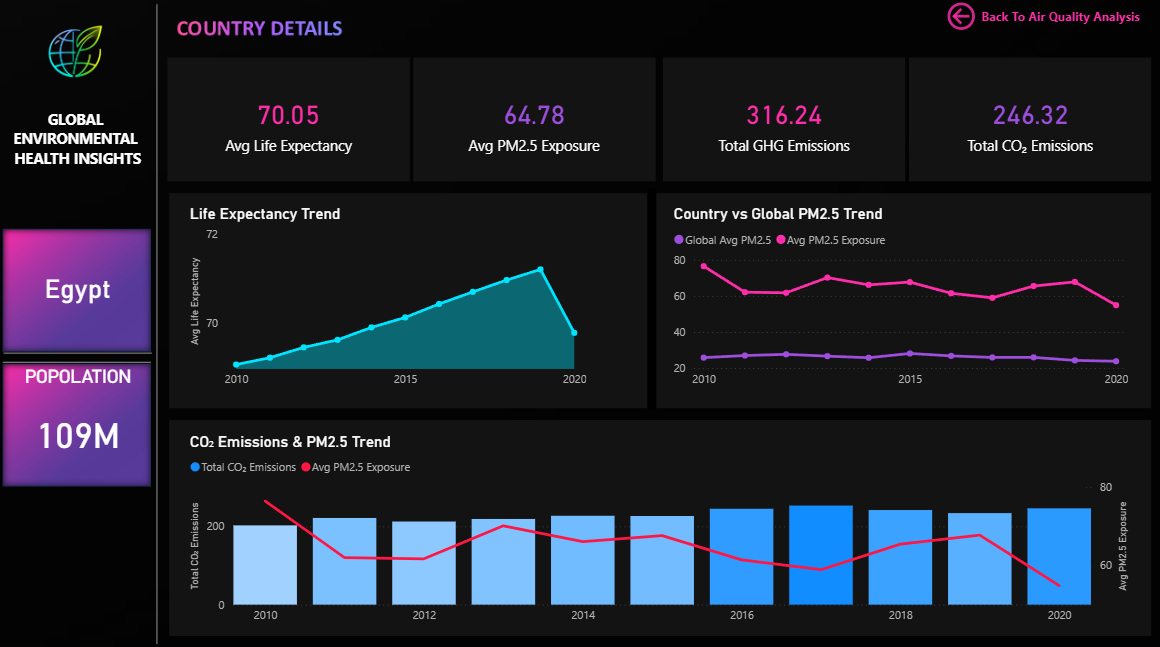

What the dashboard file says about the page in this screenshot:
{"tool":"powerbi","page":{"name":"Country Details","canvas":[1280,720],"ordinal":4},"visuals":[{"type":"card","fields":{"Values":["Min(Country_Table.Country)"]},"box":[9.6,253.9,156.4,127.6],"z":0},{"type":"card","fields":{"Values":["Calculated_Measures.Total CO₂ Emissions"]},"box":[1010,78.2,247,118],"z":1000},{"type":"card","fields":{"Values":["Calculated_Measures.Total GHG Emissions"]},"box":[736.9,78.2,252.5,118],"z":2000},{"type":"card","fields":{"Values":["Calculated_Measures.Avg PM2.5 Exposure"]},"box":[462.4,78.2,252.5,118],"z":3000},{"type":"card","fields":{"Values":["Calculated_Measures.Avg Life Expectancy"]},"box":[193.5,78.2,251.1,118],"z":4000},{"type":"card","title":"POPOLATION","fields":{"Values":["Calculated_Measures.Population"]},"box":[9.6,403.4,156.4,127.6],"z":5000},{"type":"lineClusteredColumnComboChart","title":"CO₂ Emissions & PM2.5 Trend","fields":{"Category":["Date_Table.Year"],"Y":["Calculated_Measures.Total CO₂ Emissions"],"Y2":["Calculated_Measures.Avg PM2.5 Exposure"]},"box":[206.2,476.2,1040,220],"z":6000},{"type":"areaChart","title":"Life Expectancy Trend","fields":{"Y":["Calculated_Measures.Avg Life Expectancy"],"Category":["Date_Table.Year"]},"box":[206.2,226.2,445,210],"z":7000},{"type":"lineChart","title":"Country vs Global PM2.5 Trend","fields":{"Y":["Calculated_Measures.Global Avg PM2.5","Calculated_Measures.Avg PM2.5 Exposure"],"Category":["Date_Table.Year"]},"box":[737.5,226.2,508.8,210],"z":8000},{"type":"image","box":[43.9,17.8,82.3,83.7],"z":9000},{"type":"textbox","box":[0,116.6,170.2,85.1],"z":10000},{"type":"actionButton","box":[1037.5,0,220,40],"z":11000},{"type":"shape","box":[709.4,208.6,16.5,242.9],"z":12000}]}

Visuals, with their boxes in screenshot pixels (x1, y1, x2, y2), scaled from the page's 1280x720 canvas onto the 1160x647 screenshot:
card - Min(Country_Table.Country): [9,228,150,343]
card - Calculated_Measures.Total CO₂ Emissions: [915,70,1139,176]
card - Calculated_Measures.Total GHG Emissions: [668,70,897,176]
card - Calculated_Measures.Avg PM2.5 Exposure: [419,70,648,176]
card - Calculated_Measures.Avg Life Expectancy: [175,70,403,176]
"POPOLATION" card: [9,362,150,477]
"CO₂ Emissions & PM2.5 Trend" lineClusteredColumnComboChart: [187,428,1129,626]
"Life Expectancy Trend" areaChart: [187,203,590,392]
"Country vs Global PM2.5 Trend" lineChart: [668,203,1129,392]
image: [40,16,114,91]
textbox: [0,105,154,181]
actionButton: [940,0,1140,36]
shape: [643,187,658,406]
